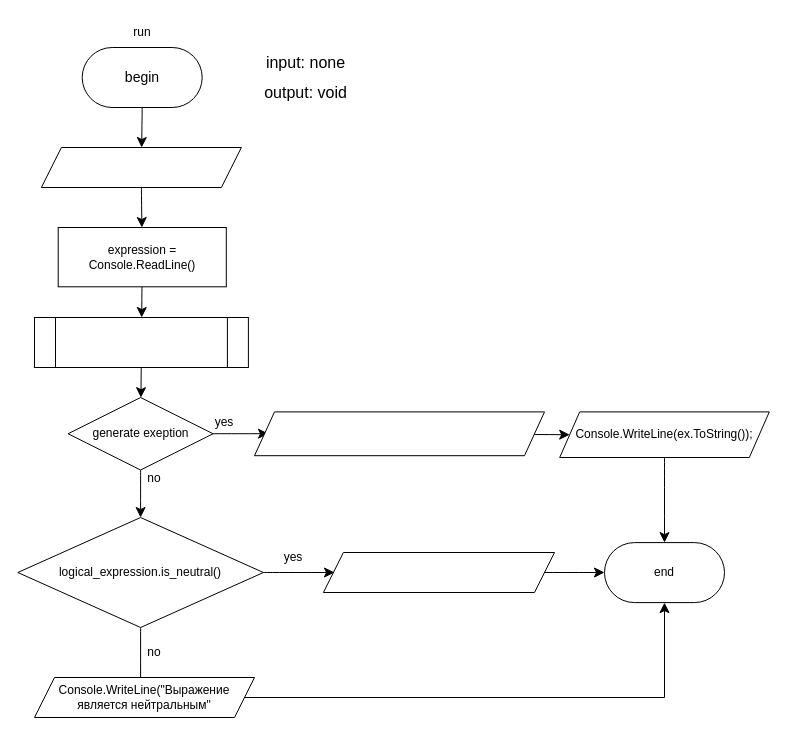
Some shapes in this 787 by 735 pixel diagram are drawn without their labels. Each missing label, with the centre of its shape:
Console . WriteLine ( " Введенное выражение не является корректным " ): pixel 399 433
Console.WriteLine("Введите логическое выражение:"): pixel 140 167
Console.WriteLine("Выражение не является нейтральным": pixel 438 572
logical_expression = new LogicalExpression(expression): pixel 141 342
